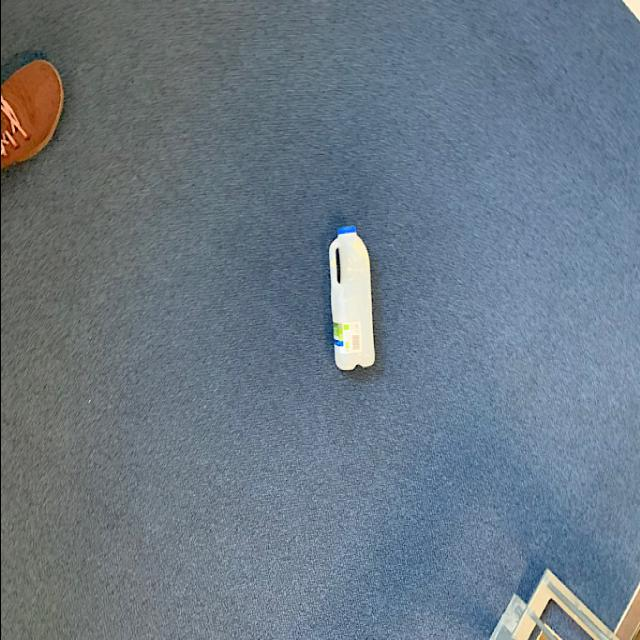litter: (323, 224, 378, 378)
